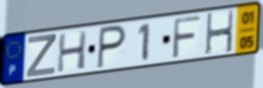1: (137, 22, 152, 62)
F: (170, 14, 203, 60)
H: (205, 9, 236, 57), (56, 29, 89, 74)
P: (96, 24, 128, 71)
Z: (25, 33, 58, 79)
